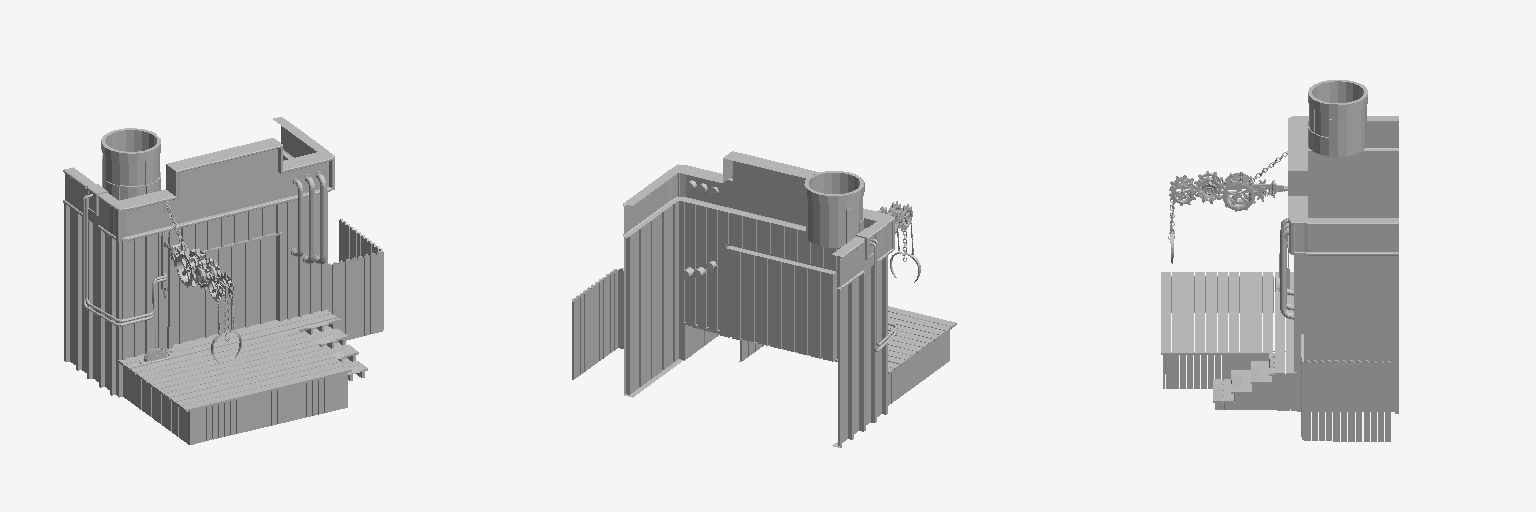
The model's file is DepoHandleFix.obj.
3 renders of one model, left to right at view 1: azimuth 30°, elevation 25°; view 2: azimuth 150°, elevation 25°; view 3: azimuth 270°, elevation 25°, orthographic.
Parts seen in each view (by area): view 1: pCube262; view 2: pCube262; view 3: pCube262.
Boxes of the visible parts, <box> form: pCube262: <box>63,117,383,444</box>; pCube262: <box>572,151,956,447</box>; pCube262: <box>1161,80,1398,441</box>.
Size of the model in its own units: 21.95 by 17.46 by 16.1.